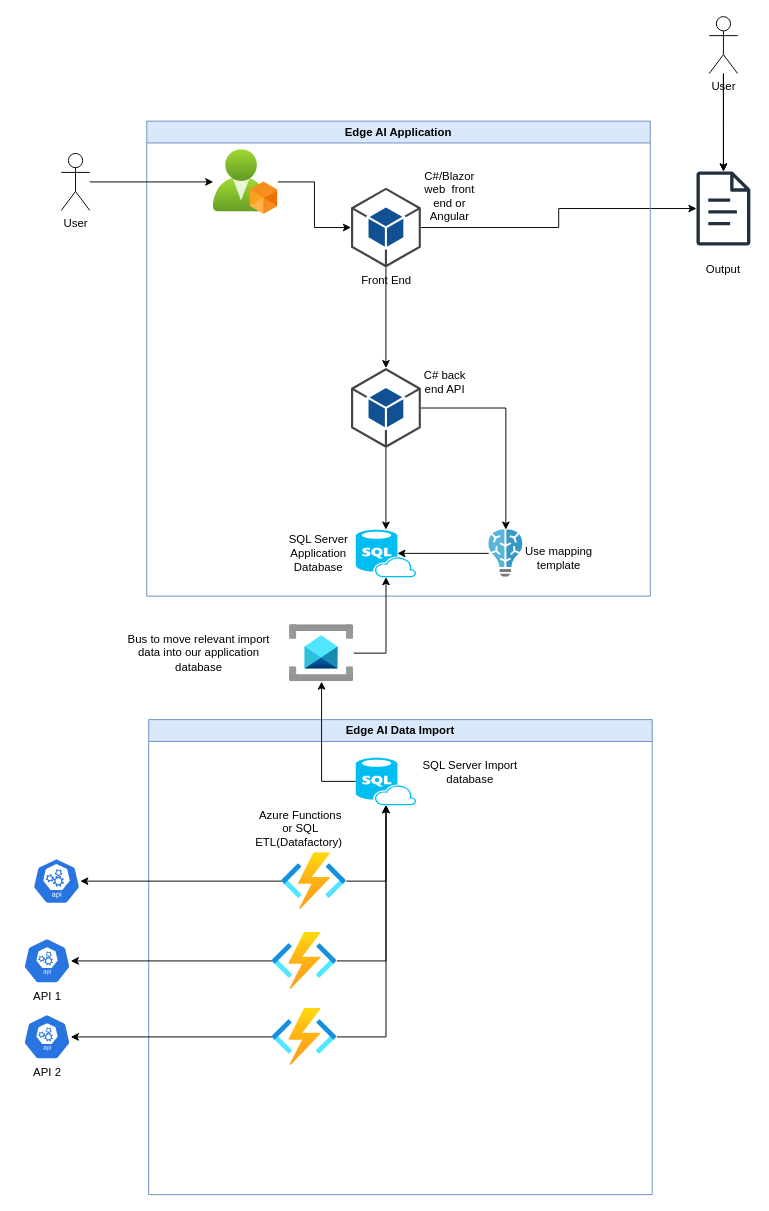
This 769x1211 diagram has some shape labels left out. Here are the shapes that lost their labels. From the top down, the centre of each, then its label:
point 245,181: ID System
point 385,407: API
point 505,553: AI
point 56,881: Quickbooks API
